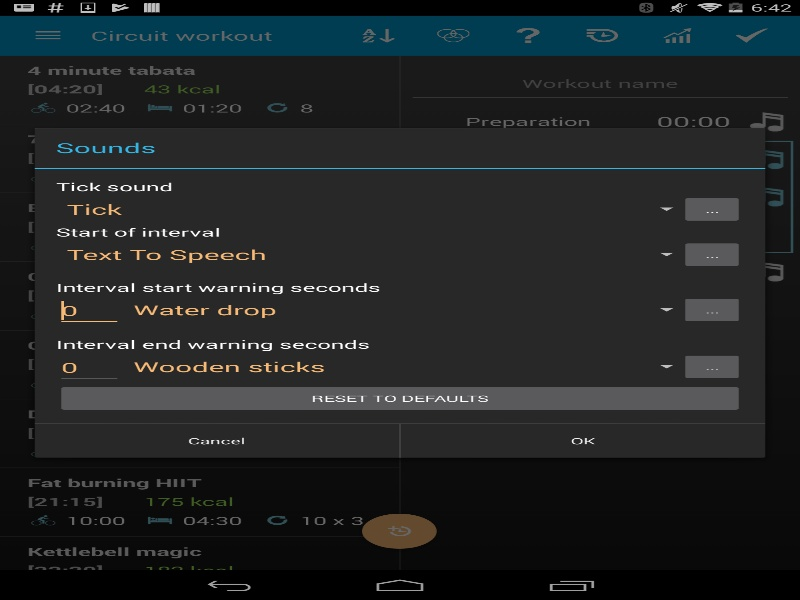Button: (56, 383, 744, 413), (34, 424, 399, 457), (400, 424, 765, 457), (680, 194, 744, 224), (680, 239, 744, 269), (680, 295, 744, 325), (680, 351, 744, 381)
Input: (56, 351, 122, 383), (56, 295, 122, 326)
